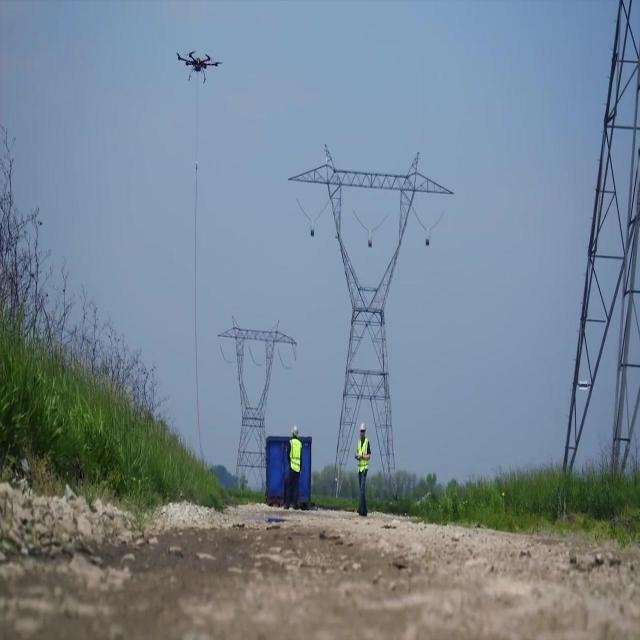UAV: (176, 50, 223, 84)
